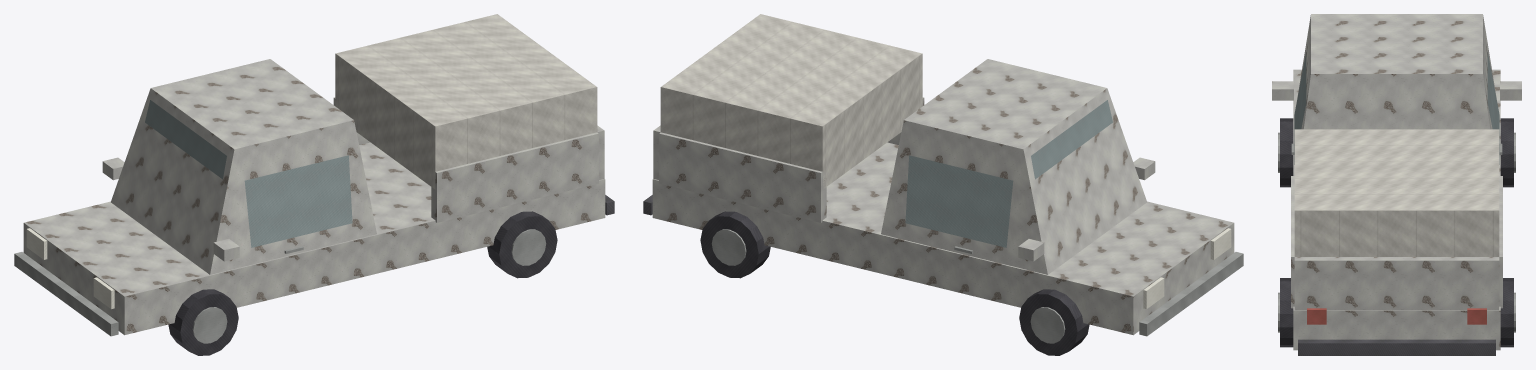
The model's file is vehicle_canopy_pickup.glb.
3 renders of one model, left to right at view 1: azimuth 30°, elevation 25°; view 2: azimuth 150°, elevation 25°; view 3: azimuth 270°, elevation 25°, orthographic. The views are drawn at different scales.
Parts seen in each view (by area): view 1: vehicle_canopy_pickup; view 2: vehicle_canopy_pickup; view 3: vehicle_canopy_pickup.
Boxes of the visible parts, left/top/right/bottom form: vehicle_canopy_pickup: left=14, top=14, right=614, bottom=355; vehicle_canopy_pickup: left=643, top=14, right=1243, bottom=355; vehicle_canopy_pickup: left=1272, top=14, right=1521, bottom=355.
Size of the model in its own units: 5.18 by 1.82 by 2.17.
8 materials, 8 textured.
